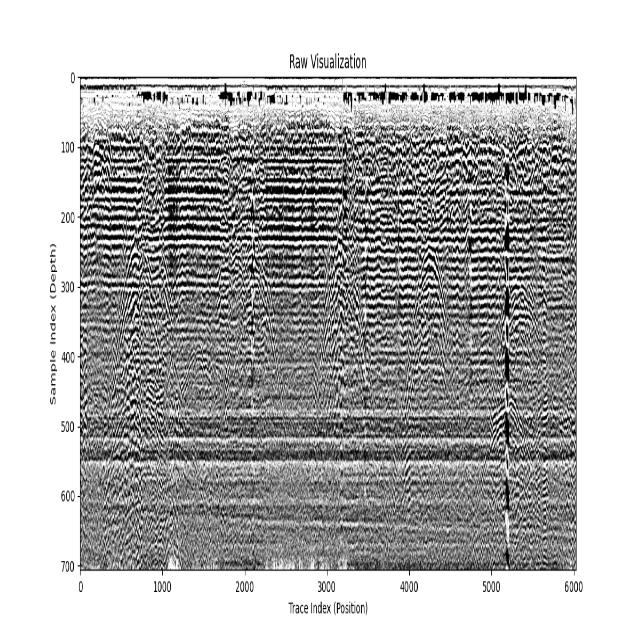anomaly: (318, 169, 368, 427), (121, 227, 177, 438), (401, 246, 460, 432), (227, 253, 287, 410), (502, 168, 512, 538), (248, 133, 256, 421)
